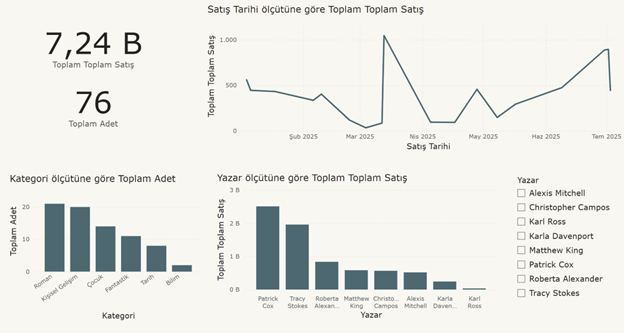

The page's visual inventory and layout, read from the dashboard file:
{"tool":"powerbi","page":{"name":"1. sayfa","canvas":[1280,720],"ordinal":0},"visuals":[{"type":"card","fields":{"Values":["Sheet1.Toplam Satış"]},"box":[56.4,37.6,280.4,130],"z":0},{"type":"card","fields":{"Values":["Sheet1.Adet"]},"box":[56.4,167.6,280.4,111.2],"z":1},{"type":"clusteredColumnChart","fields":{"Category":["Sheet1.Kategori"],"Y":["Sheet1.Adet"]},"box":[21.9,360.3,401.1,303.9],"z":2},{"type":"lineChart","fields":{"Category":["Sheet1.Satış Tarihi"],"Y":["Sheet1.Toplam Satış"]},"box":[423,15.7,857,303.9],"z":3},{"type":"clusteredColumnChart","fields":{"Category":["Sheet1.Yazar"],"Y":["Sheet1.Toplam Satış"]},"box":[441.8,358.8,579.7,303.9],"z":4},{"type":"slicer","fields":{"Values":["Sheet1.Yazar"]},"box":[1042.7,360.1,237.3,335.5],"z":5}]}

Visuals, with their boxes on the page's 1280x720 design canvas (x1, y1, x2, y2). These are canvas units, not pixel positions in the 624x333 screenshot, which may show the page scaled, cropped or inside an application window:
card - Sheet1.Toplam Satış: [56,38,337,168]
card - Sheet1.Adet: [56,168,337,279]
clusteredColumnChart - Sheet1.Kategori x Sheet1.Adet: [22,360,423,664]
lineChart - Sheet1.Satış Tarihi x Sheet1.Toplam Satış: [423,16,1280,320]
clusteredColumnChart - Sheet1.Yazar x Sheet1.Toplam Satış: [442,359,1022,663]
slicer - Sheet1.Yazar: [1043,360,1280,696]
